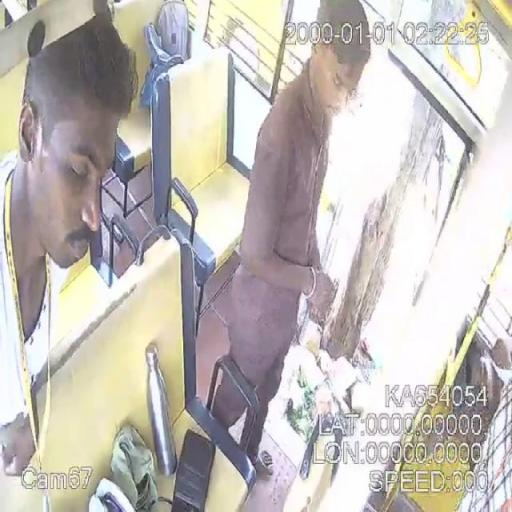persona: (210, 0, 372, 470), (1, 1, 139, 478)
